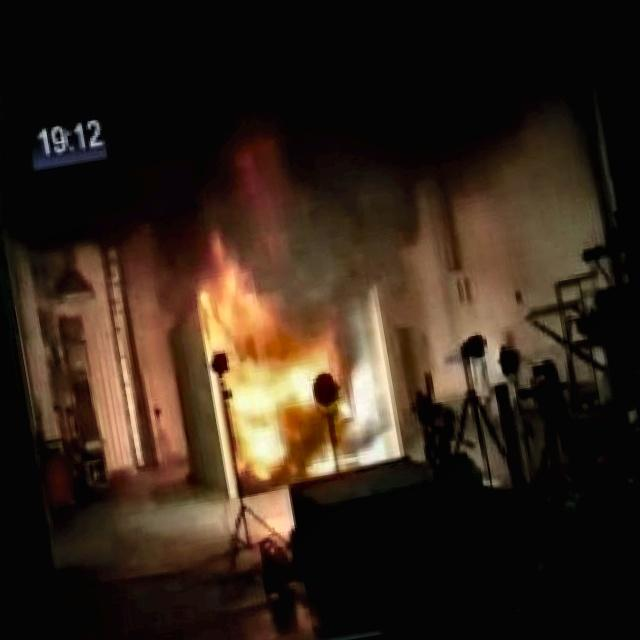fire: (200, 272, 362, 484)
smoke: (0, 0, 627, 322)
